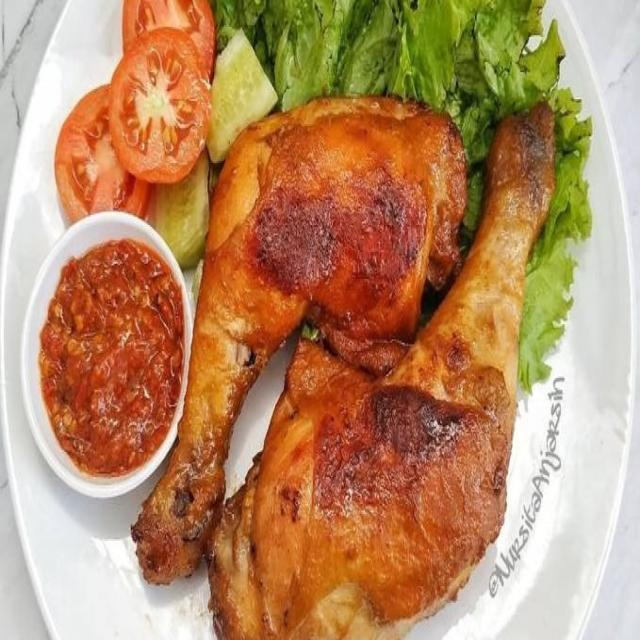ayam_goreng: (153, 75, 544, 607)
